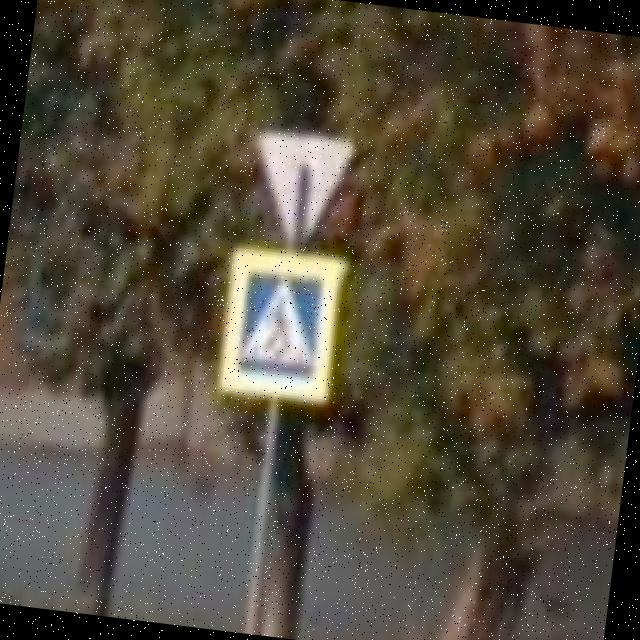Przejscie dla pieszych: (216, 245, 348, 408)
